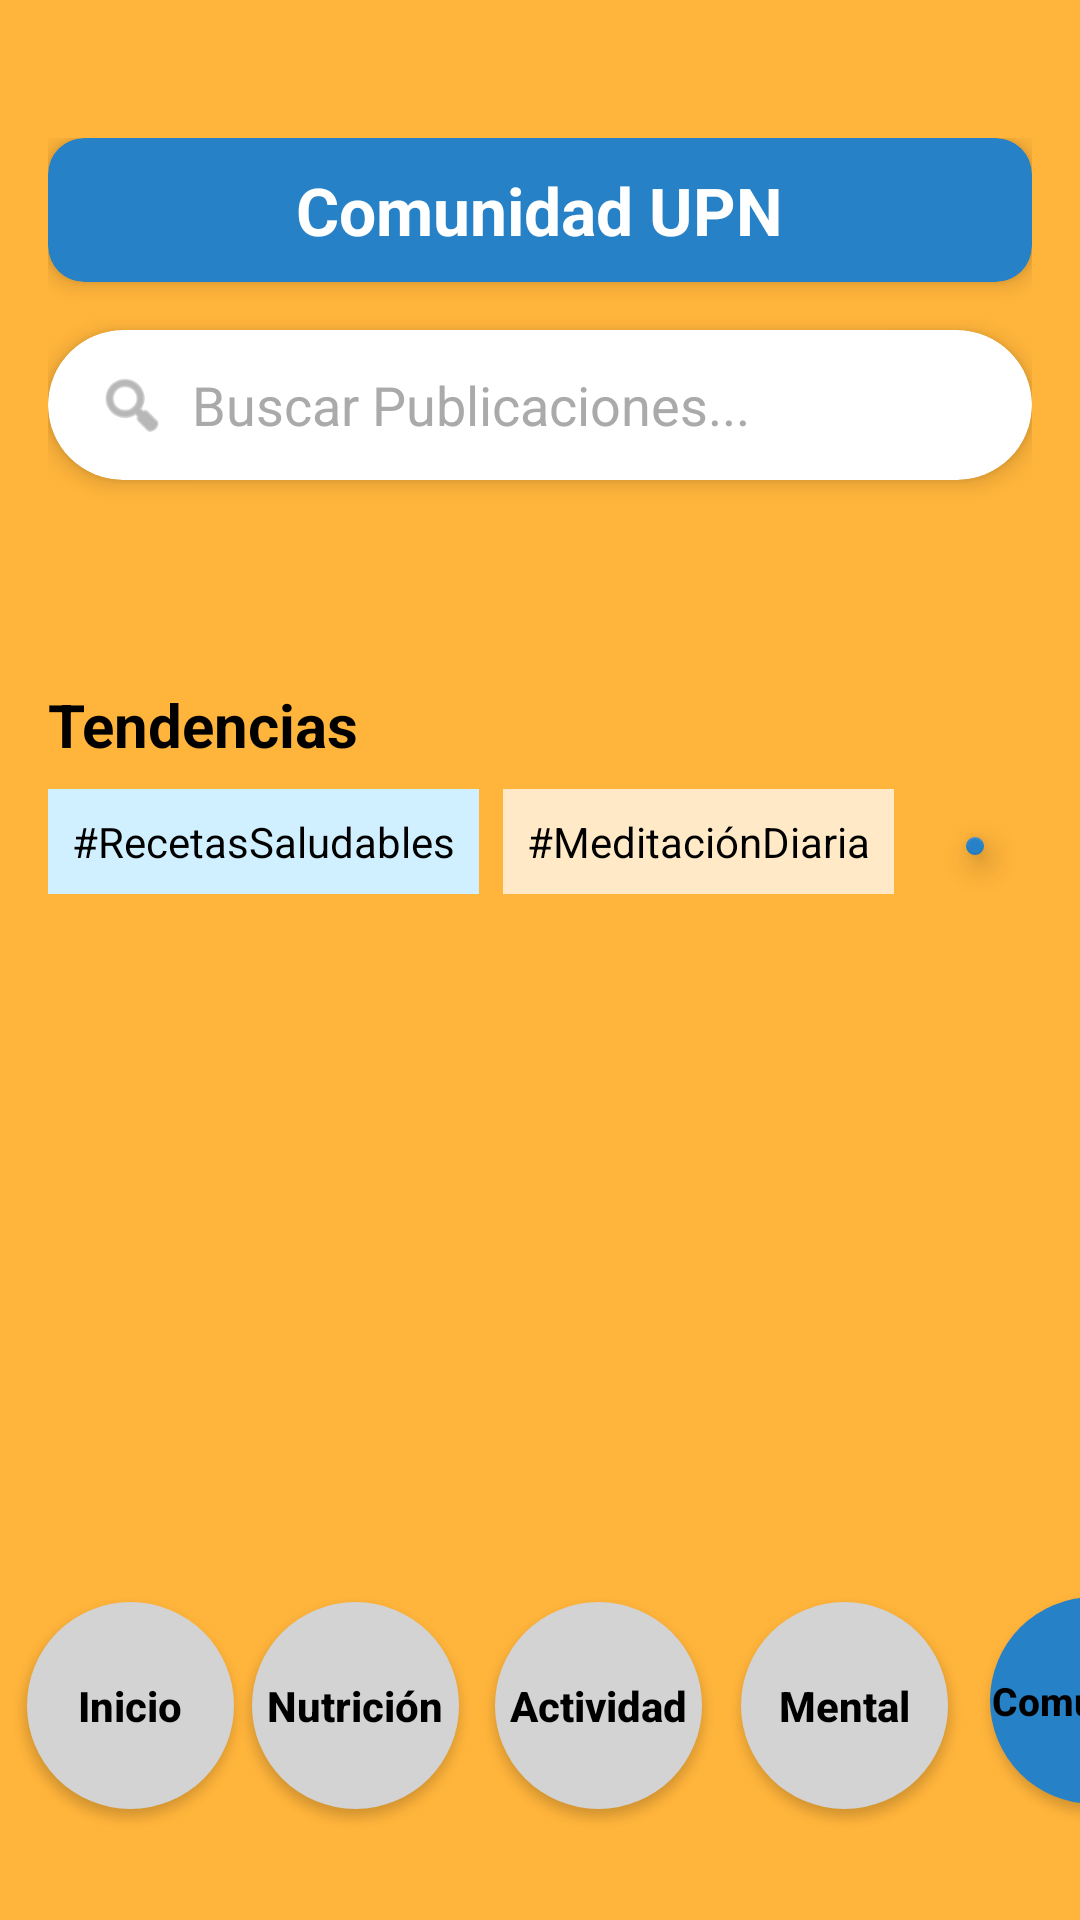

Icons on this 1080px×1920px Android screen, each with the point to tap as point (x, y):
search: point (132, 405)
